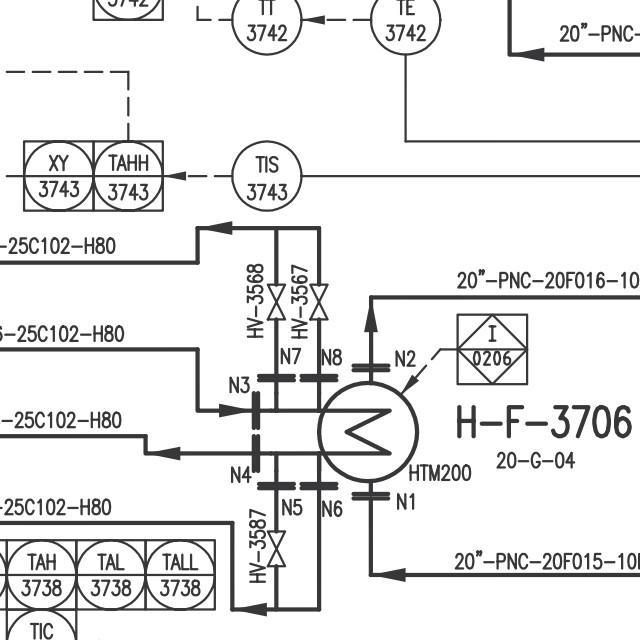GV: (263, 527, 289, 572), (306, 279, 330, 324), (265, 279, 287, 322)
HE: (316, 380, 418, 482)
